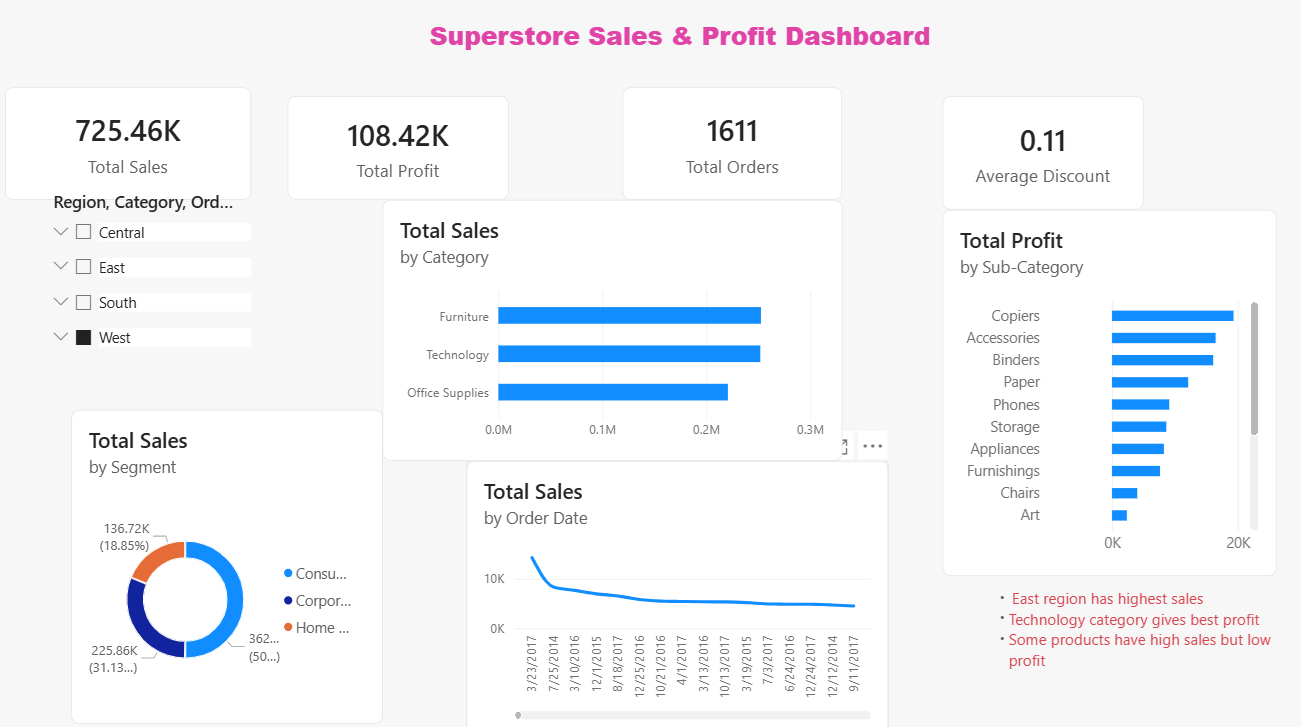

The dashboard page shown, as its layout file describes it:
{"tool":"powerbi","page":{"name":"Page 1","canvas":[1280,720],"ordinal":0},"visuals":[{"type":"card","fields":{"Values":["Products _Sales.Total Sales"]},"box":[9.7,92.9,237.7,108.6],"z":0},{"type":"card","fields":{"Values":["Products _Sales.Total Orders"]},"box":[605.6,92.9,212.3,108.6],"z":1000},{"type":"card","fields":{"Values":["Products _Sales.Total Profit"]},"box":[282.3,101.3,213.5,100.1],"z":2000},{"type":"card","fields":{"Values":["Products _Sales.Average Discount"]},"box":[914.5,101.3,194.2,109.8],"z":3000},{"type":"lineChart","fields":{"Category":["Products _Sales.Order Date"],"Y":["Products _Sales.Total Sales"]},"box":[454.8,453.6,407.8,266.6],"z":4000},{"type":"clusteredBarChart","fields":{"Y":["Products _Sales.Total Sales"],"Category":["Products _Sales.Category"]},"box":[374,201.5,444,252.1],"z":5000},{"type":"clusteredBarChart","fields":{"Category":["Products _Sales.Sub-Category"],"Y":["Products _Sales.Total Profit"]},"box":[914.5,211.1,322.1,353.5],"z":6000},{"type":"donutChart","fields":{"Category":["Products _Sales.Segment"],"Y":["Products _Sales.Total Sales"]},"box":[73.6,404.2,300.4,302.8],"z":7000},{"type":"slicer","fields":{"Values":["Products _Sales.Region","Products _Sales.Category","Products _Sales.Order Date","Products _Sales.Segment"]},"box":[48,192.1,199,193.5],"z":8000},{"type":"textbox","box":[319.7,25.3,682.8,53.1],"z":8001},{"type":"textbox","box":[960.3,575.5,276.3,107.4],"z":8002}]}

Visuals, with their boxes in screenshot pixels (x1, y1, x2, y2), scaled from the page's 1280x720 canvas onto the 1301x727 screenshot:
card - Products _Sales.Total Sales: crop(10, 94, 251, 203)
card - Products _Sales.Total Orders: crop(616, 94, 831, 203)
card - Products _Sales.Total Profit: crop(287, 102, 504, 203)
card - Products _Sales.Average Discount: crop(930, 102, 1127, 213)
lineChart - Products _Sales.Order Date x Products _Sales.Total Sales: crop(462, 458, 877, 726)
clusteredBarChart - Products _Sales.Total Sales x Products _Sales.Category: crop(380, 203, 831, 458)
clusteredBarChart - Products _Sales.Sub-Category x Products _Sales.Total Profit: crop(930, 213, 1257, 570)
donutChart - Products _Sales.Segment x Products _Sales.Total Sales: crop(75, 408, 380, 714)
slicer - Products _Sales.Region x Products _Sales.Category: crop(49, 194, 251, 389)
textbox: crop(325, 26, 1019, 79)
textbox: crop(976, 581, 1257, 690)
